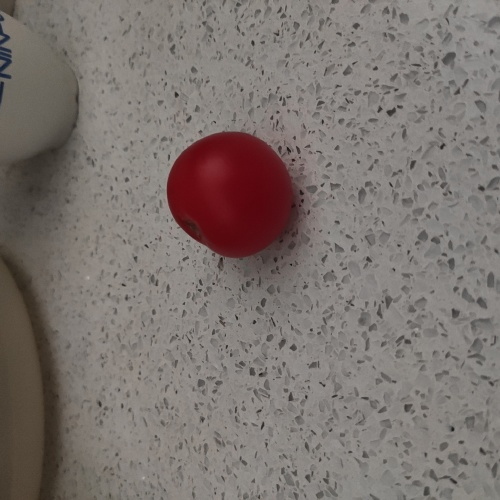pomodoro: (162, 128, 306, 269)
